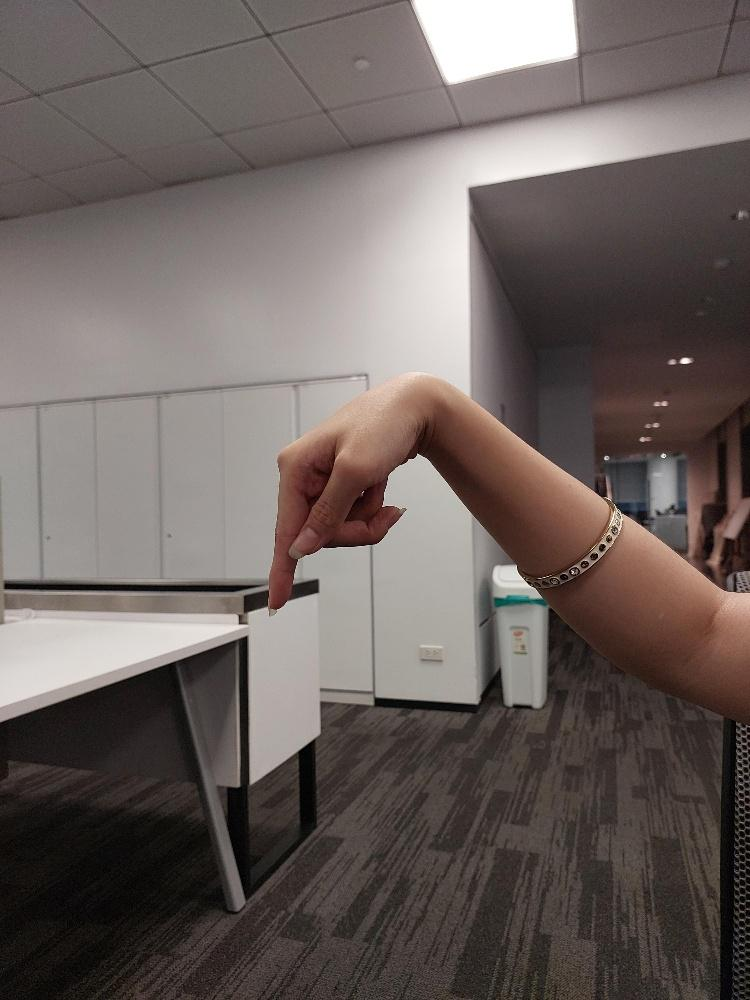p: (263, 369, 443, 616)
